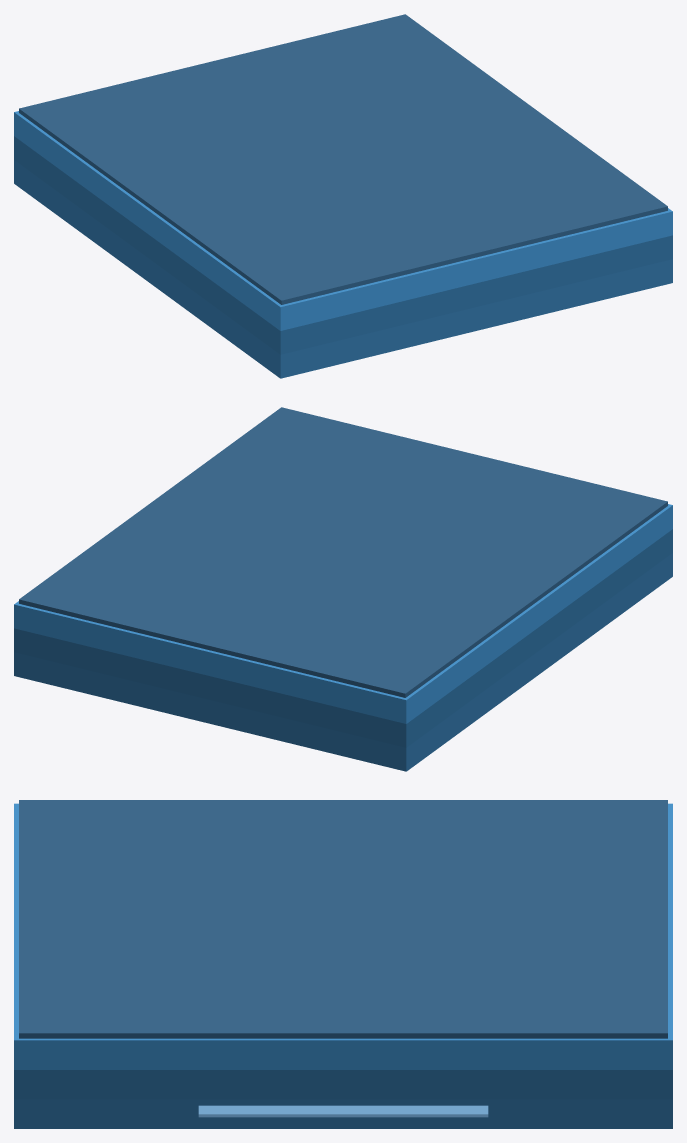
3 views of the same model, one above another, from view 1: azimuth 30°, elevation 25°; view 2: azimuth 150°, elevation 25°; view 3: azimuth 270°, elevation 25° (orthographic). The views are drawn at different scales.
Visible parts, largest first — view 1: shell; view 2: shell; view 3: shell.
Part boxes in pixels (left/top/right/bottom): shell: left=14, top=14, right=672, bottom=378; shell: left=14, top=407, right=672, bottom=771; shell: left=14, top=800, right=672, bottom=1128.
Size of the model in its own units: 88.2 by 15.7 by 100.
